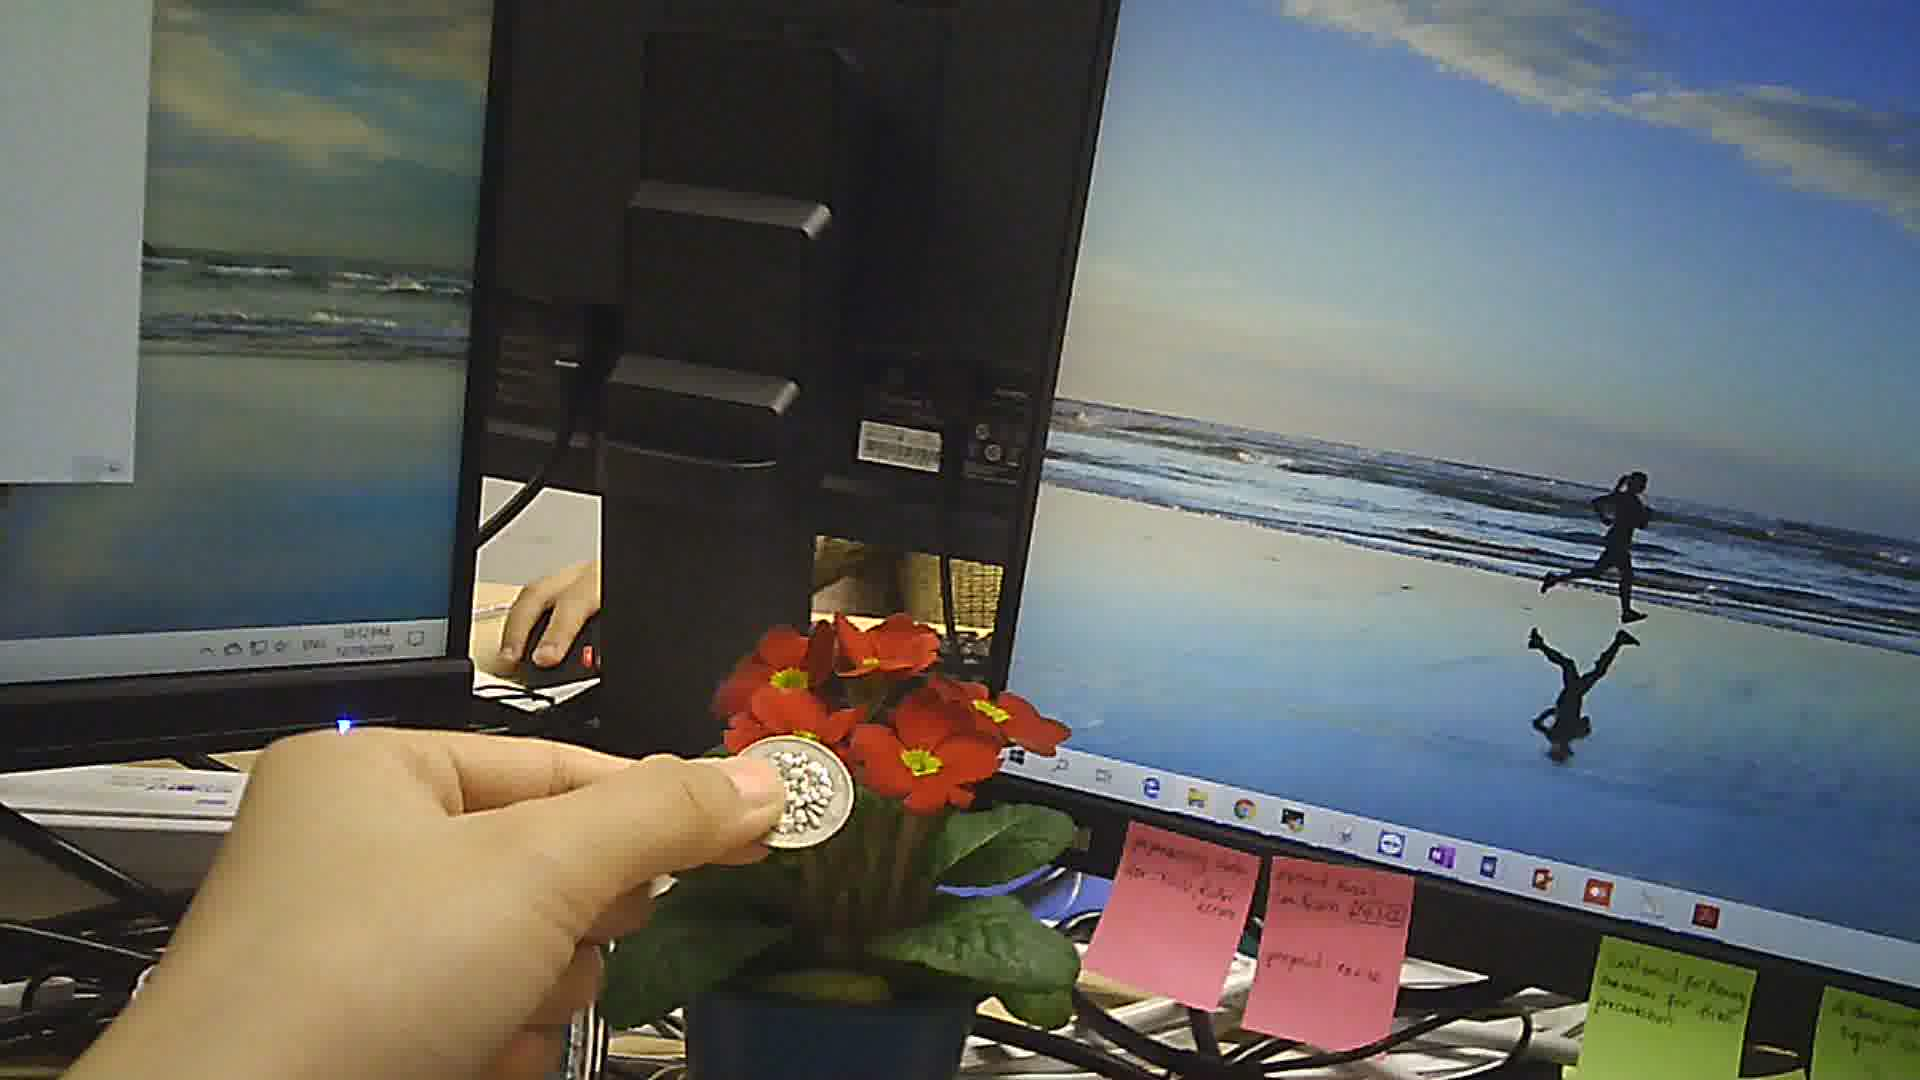100 Yen: (724, 728, 862, 855)
